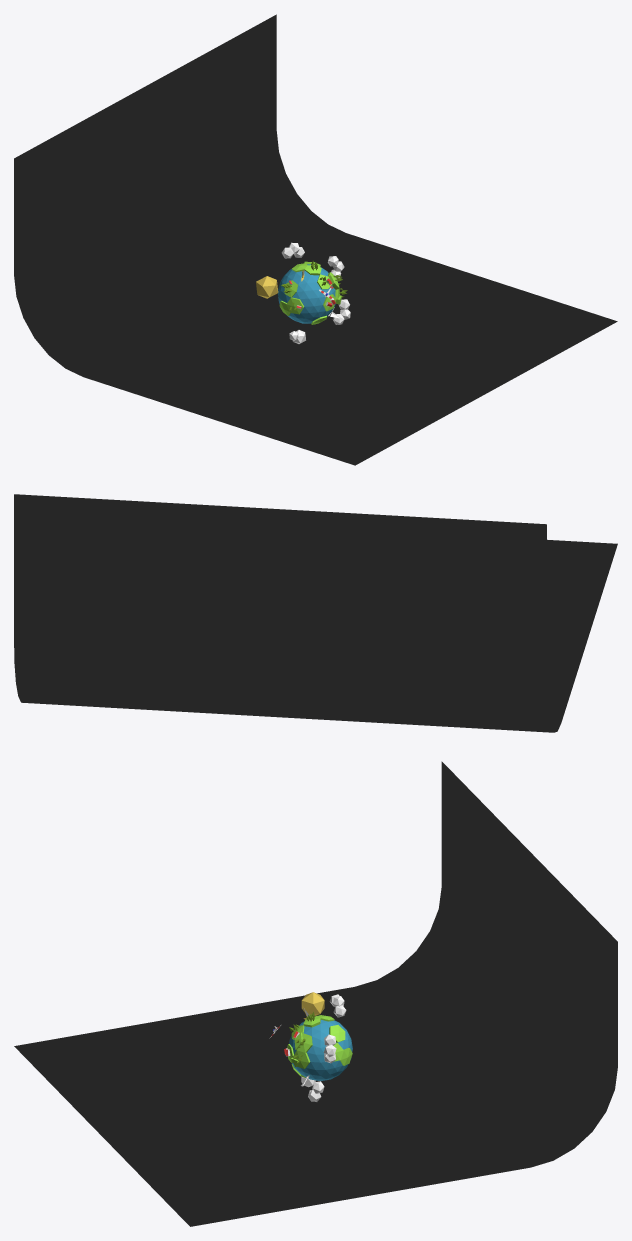
File: planet.glb
3 views of the same model, one above another, from view 1: azimuth 30°, elevation 25°; view 2: azimuth 150°, elevation 25°; view 3: azimuth 270°, elevation 25° (orthographic). The views are drawn at different scales.
Parts seen in each view (by area): view 1: Plane.001_16, Icosphere.001_1, Icosphere_0; view 2: Plane.001_16; view 3: Plane.001_16, Icosphere.001_1, Icosphere_0.
Boxes of the visible parts, x1,y1,x2,y2 form: Plane.001_16: (14,14,617,465); Icosphere.001_1: (278,264,335,323); Icosphere_0: (279,261,341,324); Plane.001_16: (14,494,617,732); Plane.001_16: (14,761,617,1226); Icosphere.001_1: (289,1020,352,1081); Icosphere_0: (287,1015,352,1077).
Size of the model in its own units: 19.81 by 7.62 by 19.81.
